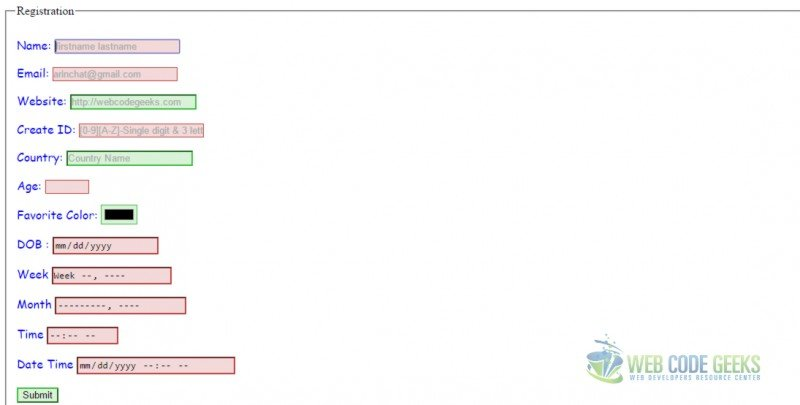button: (15, 382, 63, 405)
textbox: (74, 353, 241, 382), (64, 149, 200, 171)
